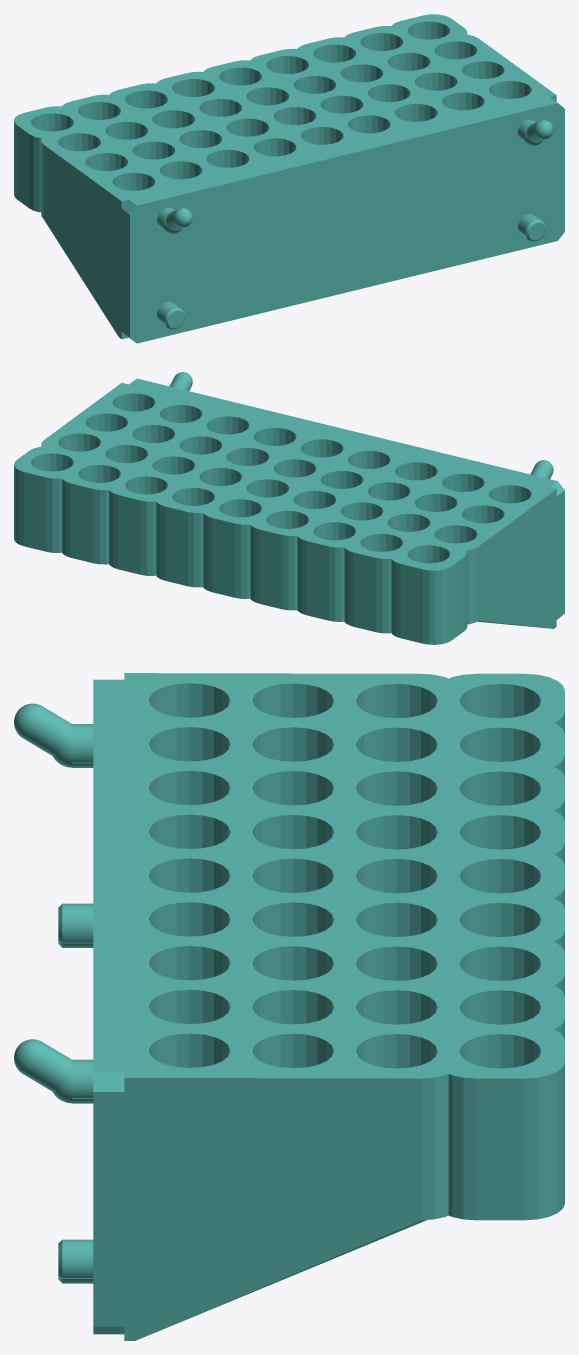
3 renders of one model, top to bottom at view 1: azimuth 30°, elevation 25°; view 2: azimuth 150°, elevation 25°; view 3: azimuth 270°, elevation 25°, orthographic. The views are drawn at different scales.
Parts seen in each view (by area): view 1: Actual holder mesh; view 2: Actual holder mesh; view 3: Actual holder mesh.
Boxes of the visible parts, x1,y1,x2,y2 form: Actual holder mesh: [14, 14, 564, 343]; Actual holder mesh: [14, 372, 564, 644]; Actual holder mesh: [14, 673, 564, 1340].
Size of the model in its own units: 0.1225 by 0.0374 by 0.0705.
